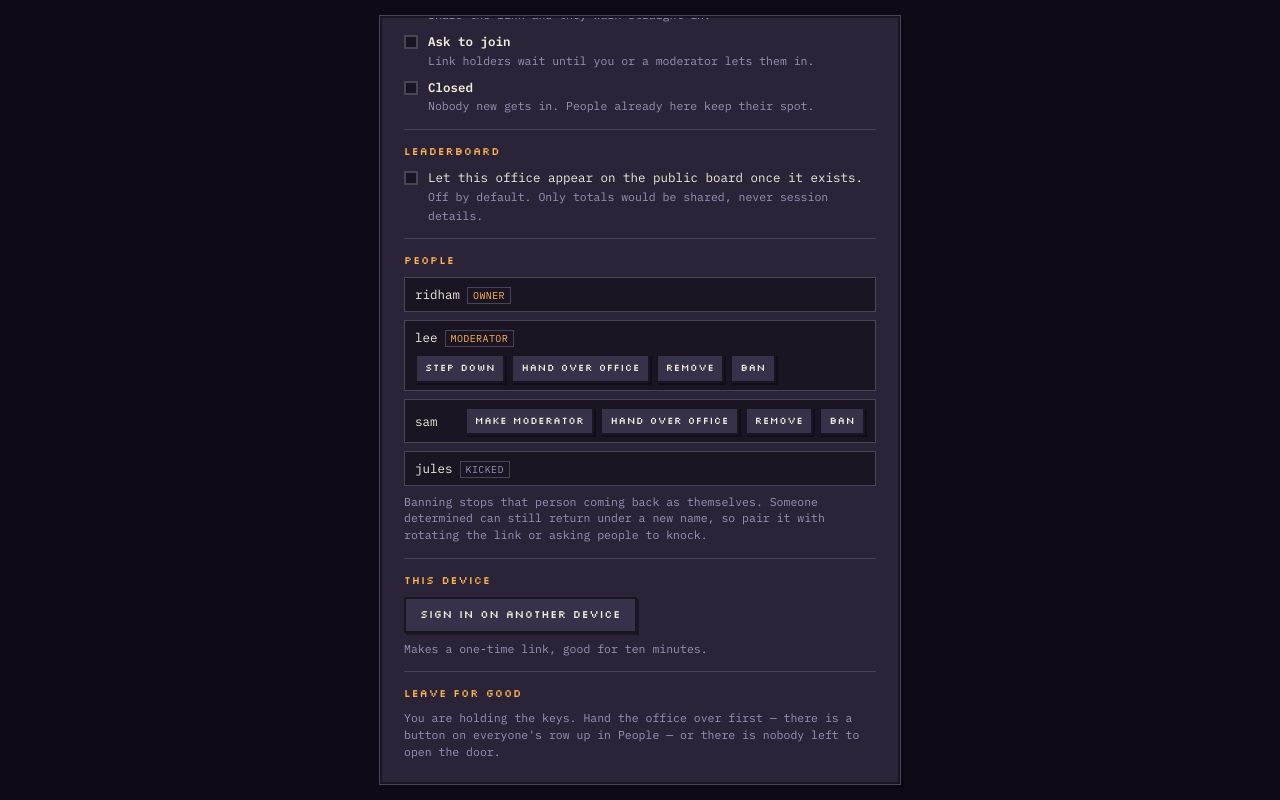
it: SettingsPanel › handing the office over › sends nothing at all if the answer is no
(page scrolled)
Click the button with aria-label "Hand over office: sam" at (670, 421), box [600, 407, 739, 435]
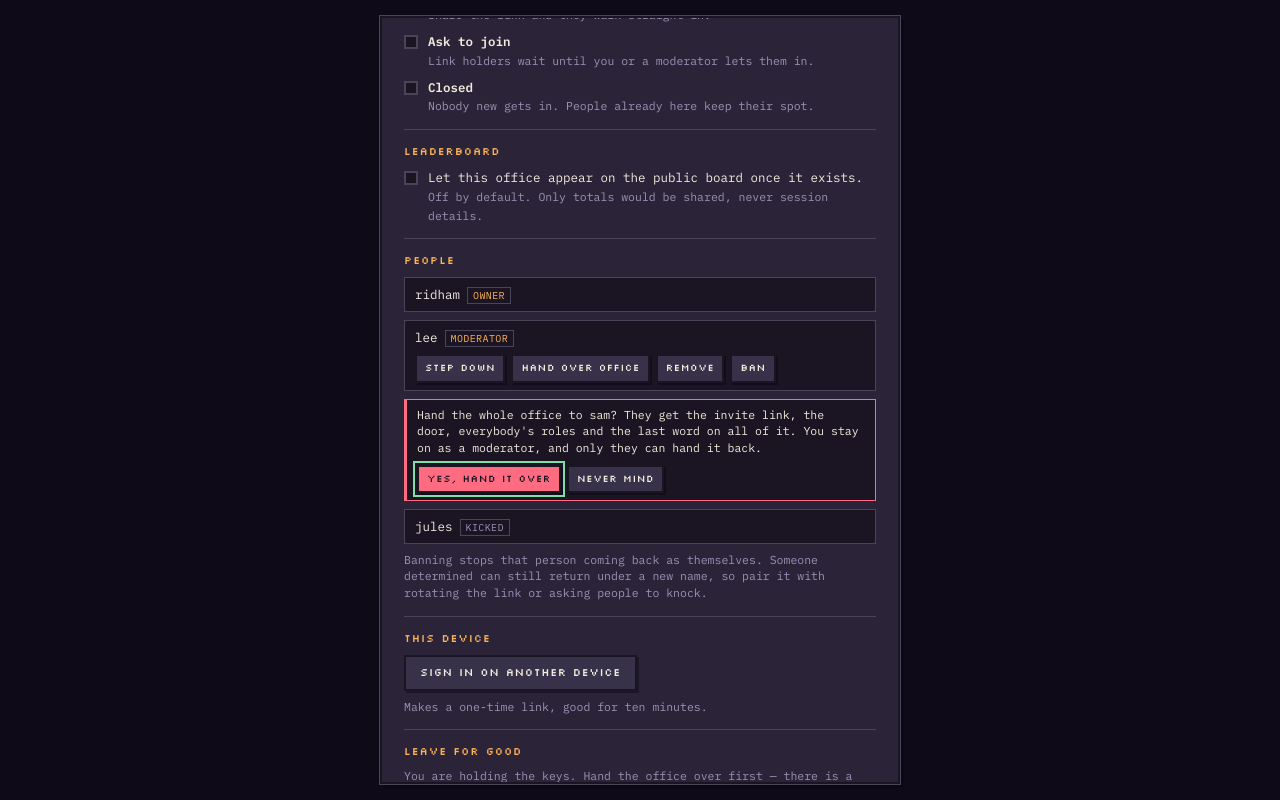
Click the button with aria-label "Never mind: sam" at (616, 479), box [567, 465, 664, 493]
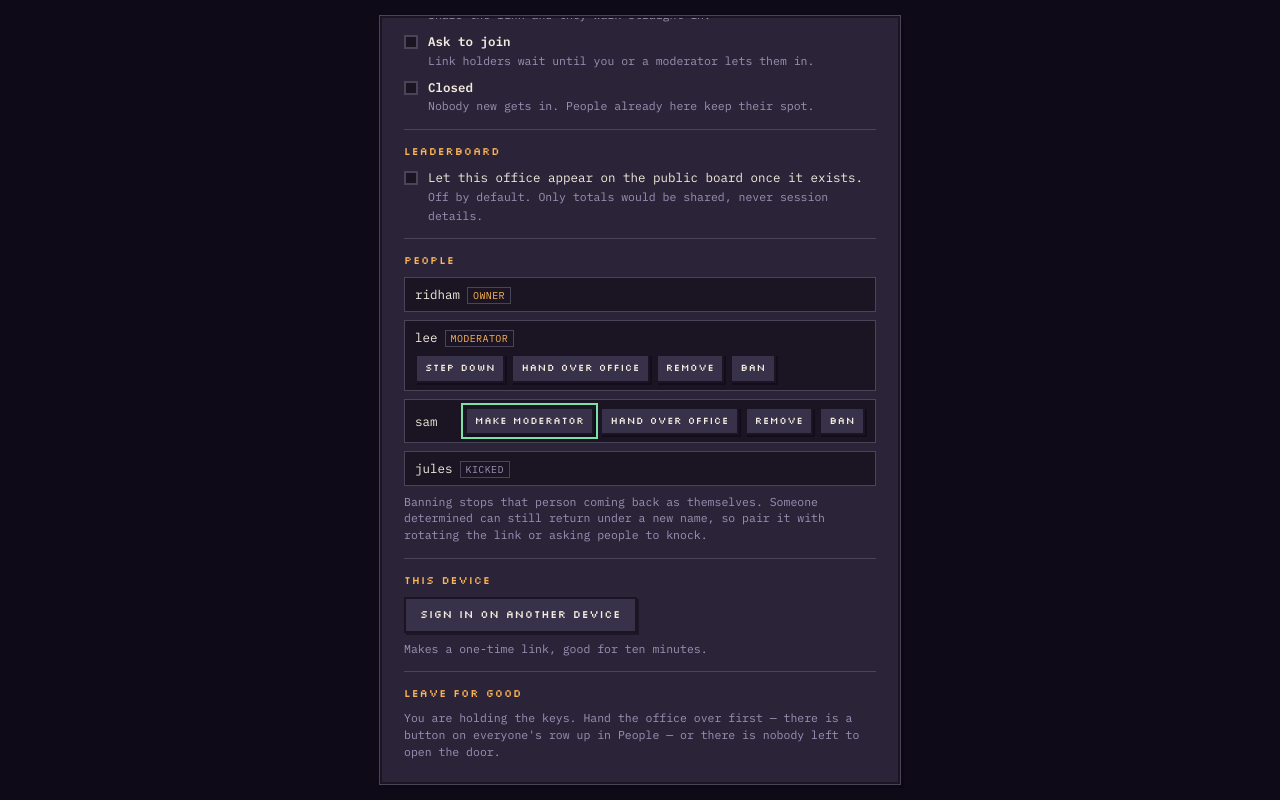
Now the button with aria-label "Hand over office: sam" is shown, box [600, 407, 739, 435]
